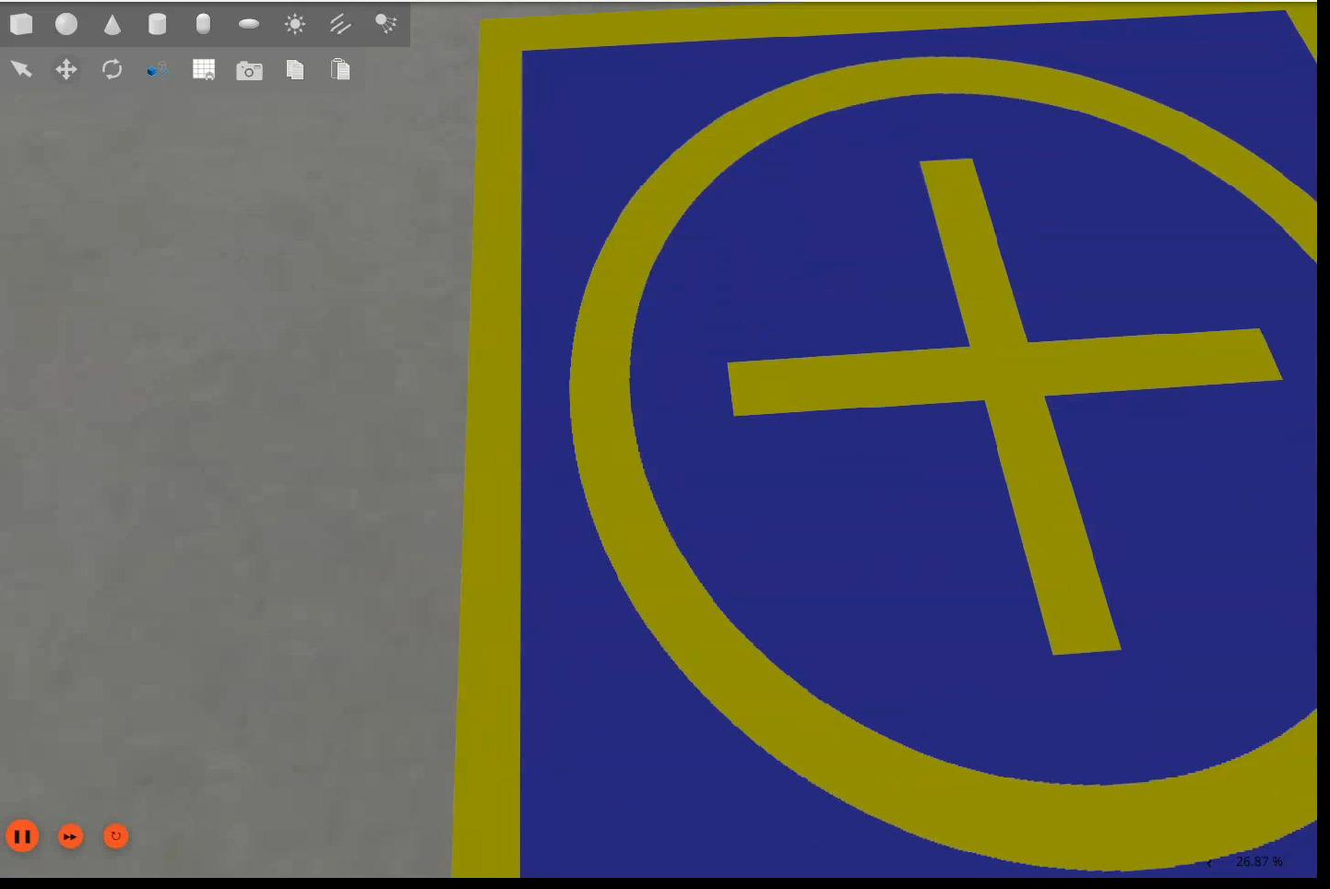small_base: (449, 1, 1317, 883)
